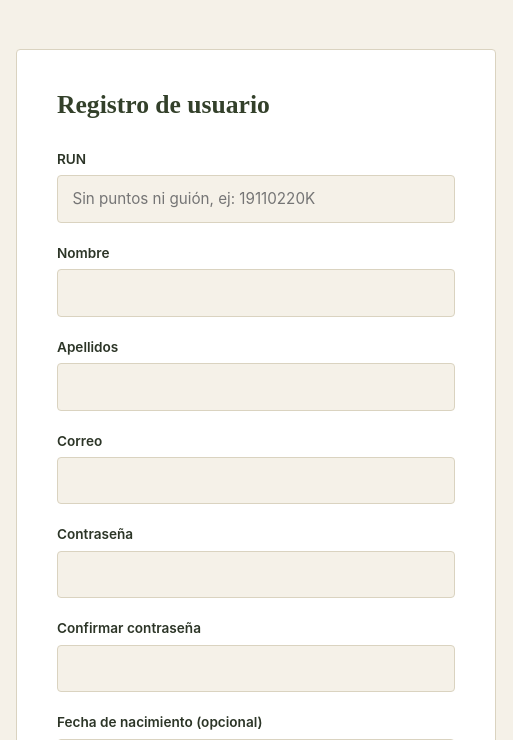
Test case: Registro › muestra error si las contraseñas no coinciden
In the password field labelled "Contraseña": point(256, 575) left=57, top=551, right=455, bottom=598, type "abcd"
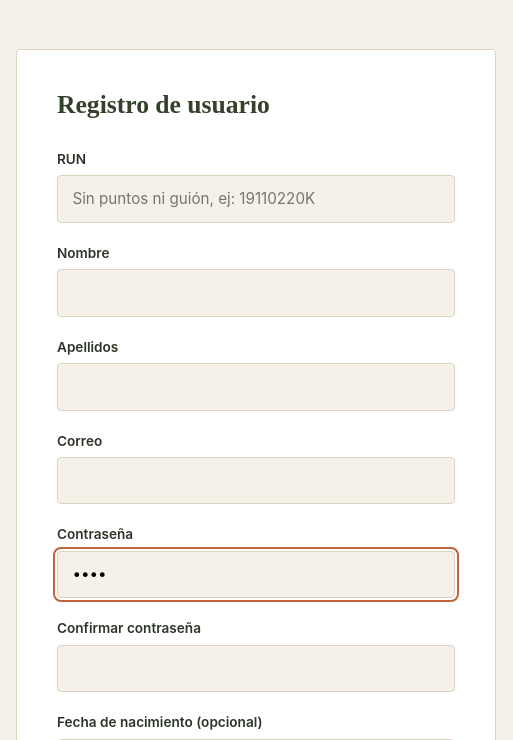
In the password field labelled "Confirmar contraseña": point(256, 669) left=57, top=645, right=455, bottom=692, type "xyz1"
(page scrolled)
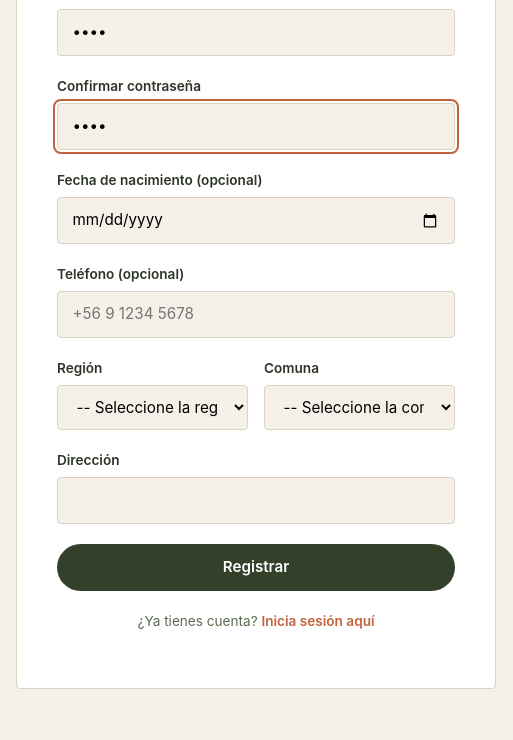
Click the button "Registrar": point(256, 568) left=57, top=544, right=455, bottom=591
(page scrolled)
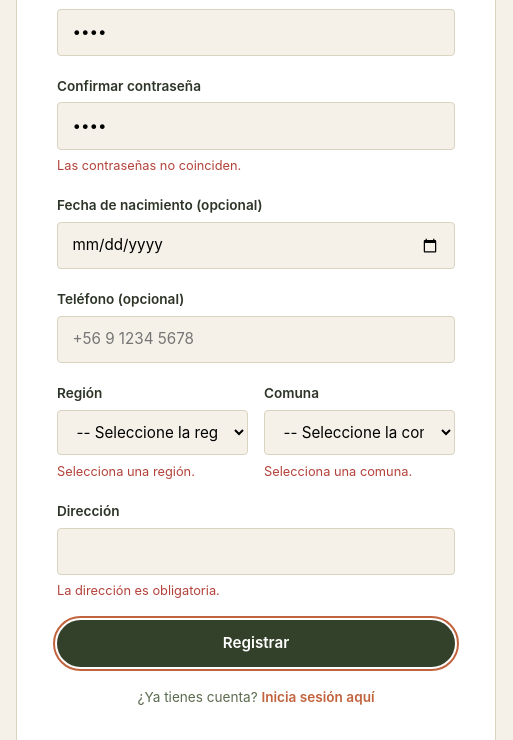
Expected: the text "Las contraseñas no coinciden." is shown, left=57, top=158, right=241, bottom=173
